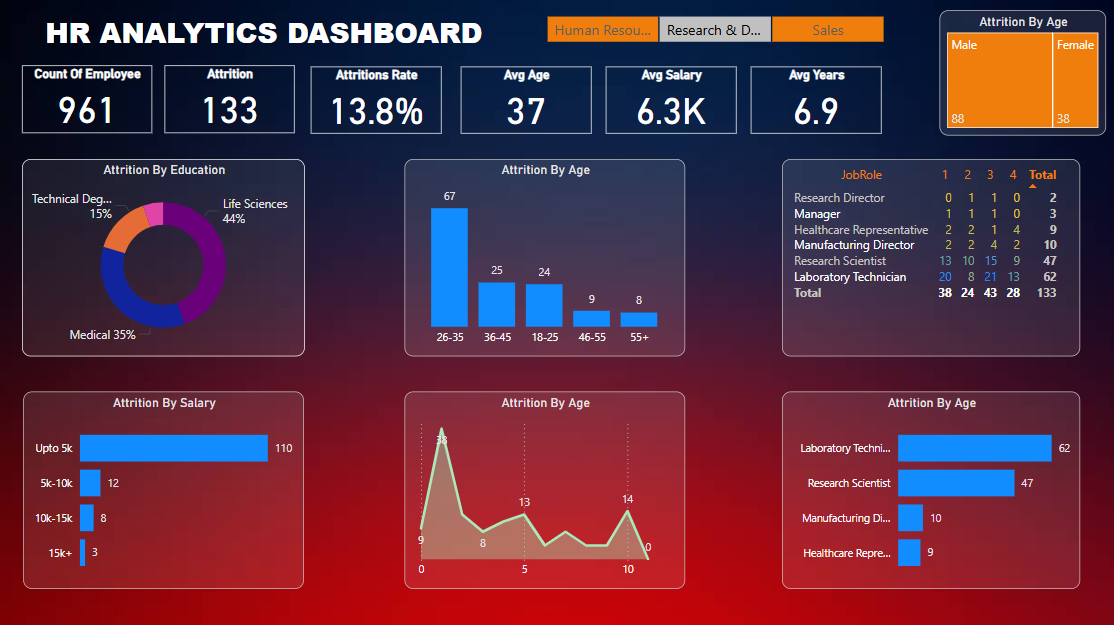

Layout of this report page (visuals, bound fields, positions):
{"tool":"powerbi","page":{"name":"Page 1","canvas":[1280,720],"ordinal":0},"visuals":[{"type":"card","title":"Count Of Employee","fields":{"Values":["CountNonNull(HR_Analytics.EmpID)"]},"box":[9.4,76.5,149.4,76.5],"z":0},{"type":"card","title":"Attrition","fields":{"Values":["Sum(HR_Analytics.AttritionCount)"]},"box":[183.5,76.5,149.4,76.5],"z":1000},{"type":"card","title":"Attritions Rate","fields":{"Values":["HR_Analytics.AttritionRate"]},"box":[358.8,76.5,149.4,76.5],"z":2000},{"type":"card","title":"Avg Age","fields":{"Values":["Avg(HR_Analytics.Age)"]},"box":[530.6,76.5,149.4,76.5],"z":3000},{"type":"card","title":"Avg Salary","fields":{"Values":["Avg(HR_Analytics.MonthlyIncome)"]},"box":[695.3,76.5,149.4,76.5],"z":4000},{"type":"card","title":"Avg Years","fields":{"Values":["Avg(HR_Analytics.YearsAtCompany)"]},"box":[861.2,76.5,149.4,76.5],"z":5000},{"type":"donutChart","title":"Attrition By Education","fields":{"Category":["HR_Analytics.EducationField"],"Y":["Sum(HR_Analytics.AttritionCount)"]},"box":[28.2,183.5,323.5,225.9],"z":6000},{"type":"columnChart","title":"Attrition By Age","fields":{"Category":["HR_Analytics.AgeGroup"],"Y":["Sum(HR_Analytics.AttritionCount)"]},"box":[465.9,183.5,321.2,225.9],"z":7000},{"type":"pivotTable","fields":{"Rows":["HR_Analytics.JobRole"],"Columns":["HR_Analytics.JobSatisfaction"],"Values":["Sum(HR_Analytics.AttritionCount)"]},"box":[897.6,183.5,341.2,225.9],"z":8000},{"type":"barChart","title":"Attrition By Salary","fields":{"Category":["HR_Analytics.SalarySlab"],"Y":["Sum(HR_Analytics.AttritionCount)"]},"box":[30.6,448.2,321.2,225.9],"z":9000},{"type":"barChart","title":"Attrition By Age","fields":{"Y":["Sum(HR_Analytics.AttritionCount)"],"Category":["HR_Analytics.JobRole"]},"box":[897.6,448.2,341.2,225.9],"z":10000},{"type":"areaChart","title":"Attrition By Age","fields":{"Category":["HR_Analytics.YearsAtCompany"],"Y":["Sum(HR_Analytics.AttritionCount)"]},"box":[465.9,448.2,321.2,225.9],"z":11000},{"type":"treemap","title":"Attrition By Age","fields":{"Group":["HR_Analytics.Gender"],"Values":["Sum(HR_Analytics.AttritionCount)"]},"box":[1077.6,12.9,190.6,143.5],"z":12000},{"type":"slicer","fields":{"Values":["HR_Analytics.Department"]},"box":[602.4,12.9,434.1,38.8],"z":12001},{"type":"textbox","box":[50,10,520,50],"z":12002}]}

Visuals, with their boxes in screenshot pixels (x1, y1, x2, y2), scaled from the page's 1280x720 canvas onto the 1114x625 screenshot:
"Count Of Employee" card: bbox=(8, 66, 138, 133)
"Attrition" card: bbox=(160, 66, 290, 133)
"Attritions Rate" card: bbox=(312, 66, 442, 133)
"Avg Age" card: bbox=(462, 66, 592, 133)
"Avg Salary" card: bbox=(605, 66, 735, 133)
"Avg Years" card: bbox=(750, 66, 880, 133)
"Attrition By Education" donutChart: bbox=(25, 159, 306, 355)
"Attrition By Age" columnChart: bbox=(405, 159, 685, 355)
pivotTable - HR_Analytics.JobRole x HR_Analytics.JobSatisfaction: bbox=(781, 159, 1078, 355)
"Attrition By Salary" barChart: bbox=(27, 389, 306, 585)
"Attrition By Age" barChart: bbox=(781, 389, 1078, 585)
"Attrition By Age" areaChart: bbox=(405, 389, 685, 585)
"Attrition By Age" treemap: bbox=(938, 11, 1104, 136)
slicer - HR_Analytics.Department: bbox=(524, 11, 902, 45)
textbox: bbox=(44, 9, 496, 52)
